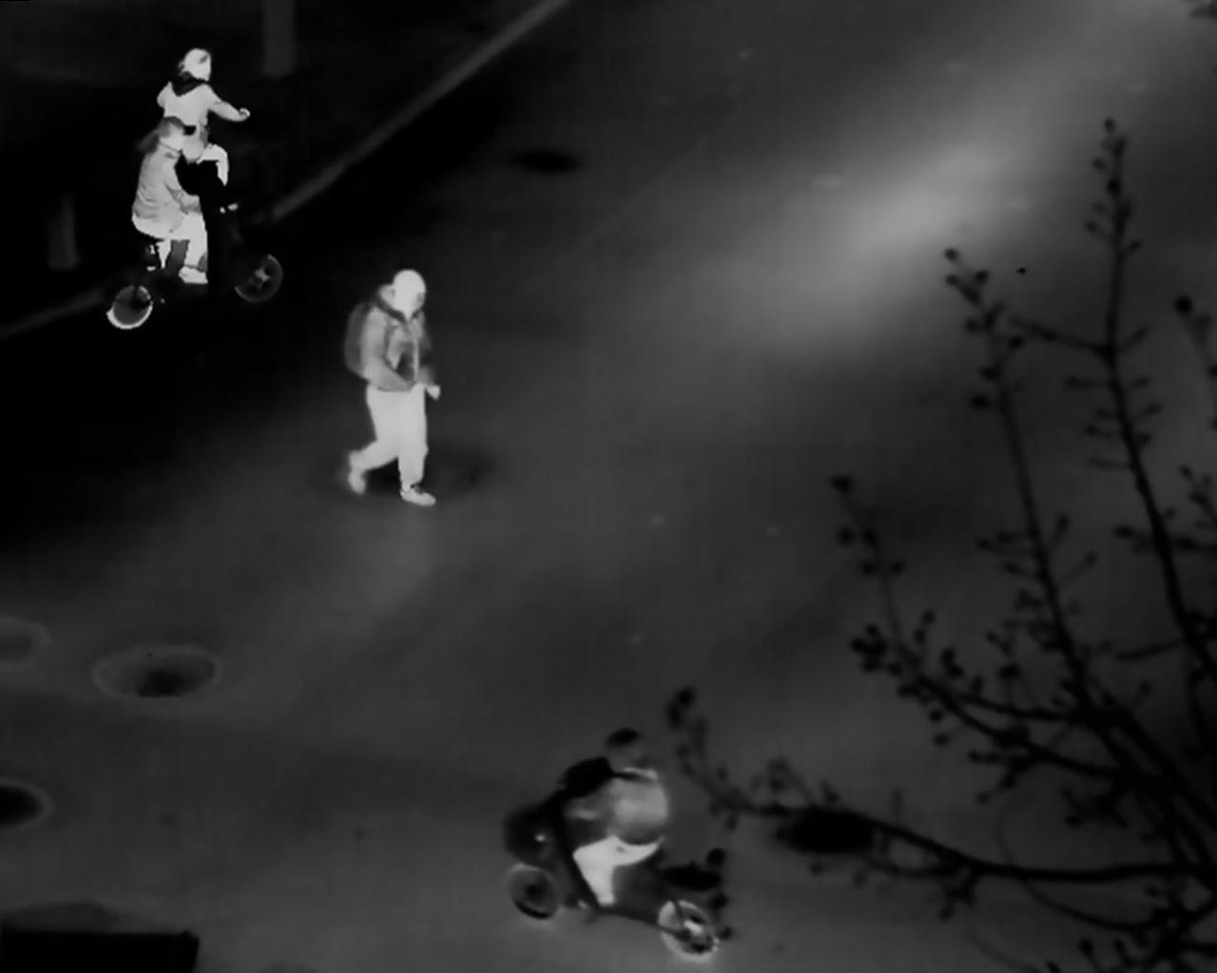person: (341, 268, 444, 508), (564, 725, 670, 907), (155, 47, 251, 184), (131, 116, 208, 286)
